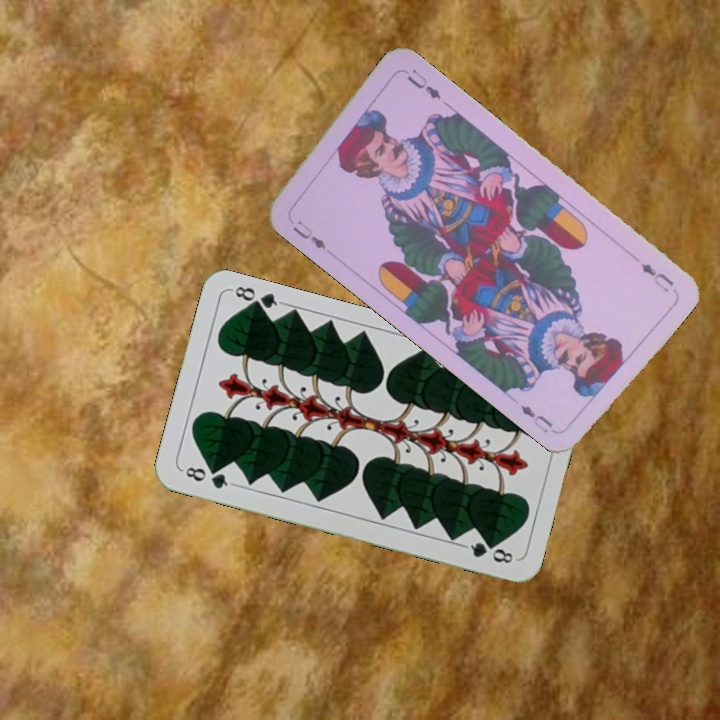EU: (289, 216, 329, 252), (636, 259, 676, 295)
G8: (178, 462, 236, 491)
